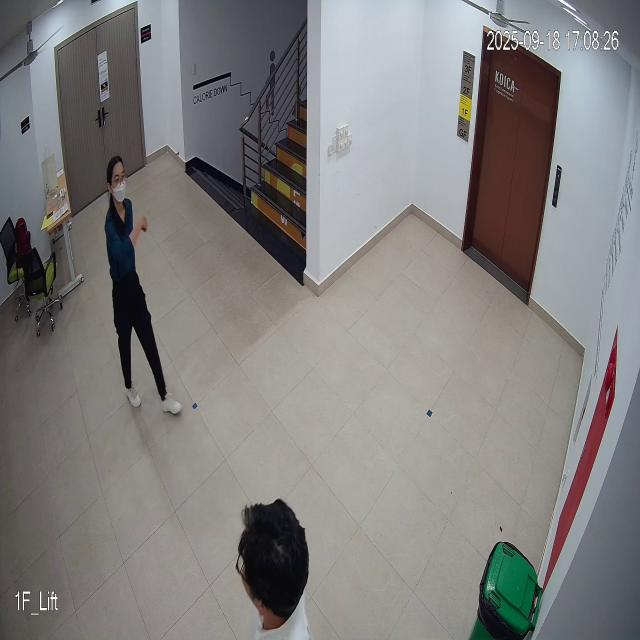face: (107, 154, 130, 208)
